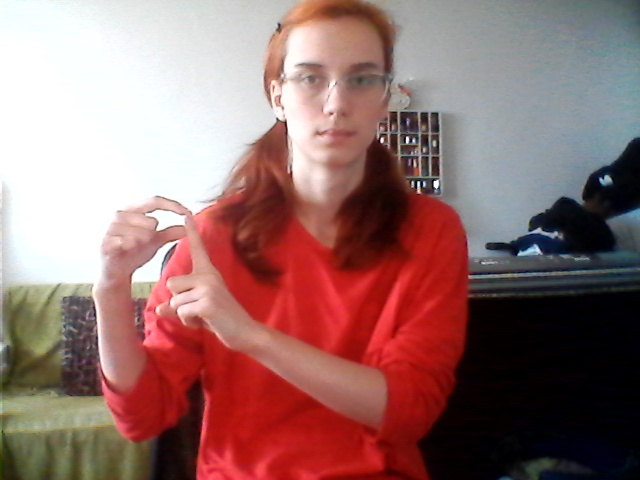p: (85, 192, 246, 355)
